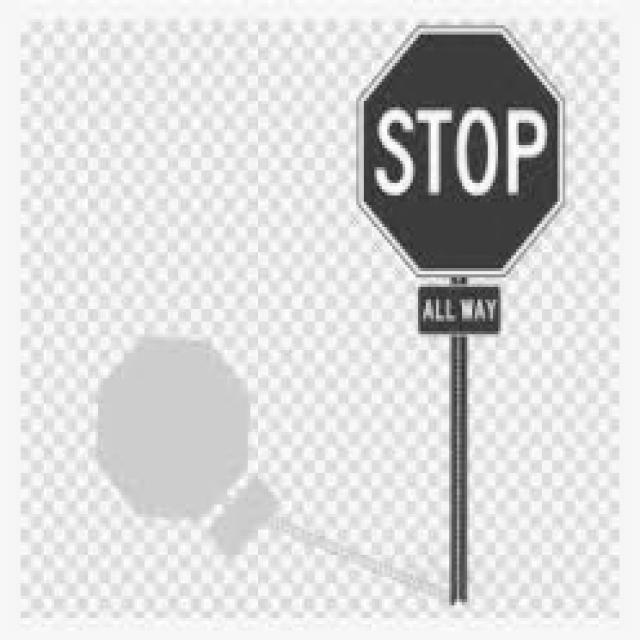stop sign: (362, 29, 567, 332)
